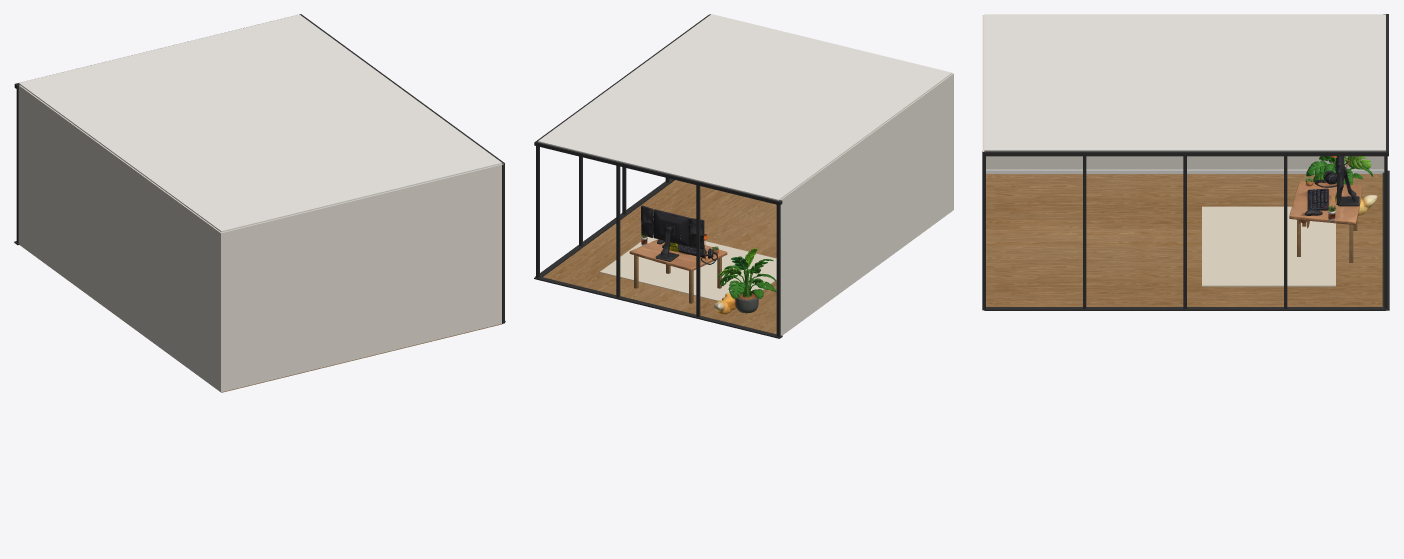
Rendered from room.glb.
The picture shows the model from 3 angles, left to right: view 1: azimuth 30°, elevation 25°; view 2: azimuth 150°, elevation 25°; view 3: azimuth 270°, elevation 25°; orthographic projection. The views are drawn at different scales.
Parts seen in each view (by area): view 1: ceiling, wallF, wallL; view 2: ceiling, wallL, floor, rug, triple_monitor_workstation_3d_model_triple_monitor_workstati, plotted_plant_dog_plotted_plant_dog, header, threshold, thresholdR, mullion0.8, mullion-0.8, mullion-2.4 (+1 smaller); view 3: ceiling, floor, rug, wallL, triple_monitor_workstation_3d_model_triple_monitor_workstati, headerR, baseL, thresholdR, plotted_plant_dog_plotted_plant_dog, threshold, mullionR4.8, mullion2.4 (+3 smaller).
Part boxes in pixels (left/top/right/bottom): ceiling: left=19, top=14, right=502, bottom=232; wallF: left=220, top=163, right=503, bottom=392; wallL: left=18, top=85, right=220, bottom=391; ceiling: left=538, top=14, right=952, bottom=200; wallL: left=780, top=74, right=953, bottom=335; floor: left=543, top=180, right=776, bottom=334; rug: left=600, top=235, right=776, bottom=301; triple_monitor_workstation_3d_model_triple_monitor_workstati: left=629, top=205, right=727, bottom=271; plotted_plant_dog_plotted_plant_dog: left=713, top=248, right=776, bottom=314; header: left=534, top=141, right=782, bottom=205; threshold: left=534, top=277, right=782, bottom=338; thresholdR: left=535, top=178, right=674, bottom=277; mullion0.8: left=616, top=165, right=620, bottom=297; mullion-0.8: left=696, top=185, right=700, bottom=317; mullion-2.4: left=776, top=205, right=780, bottom=336; ceiling: left=984, top=14, right=1385, bottom=151; floor: left=986, top=174, right=1382, bottom=306; rug: left=1202, top=206, right=1335, bottom=286; wallL: left=986, top=156, right=1384, bottom=169; triple_monitor_workstation_3d_model_triple_monitor_workstati: left=1289, top=156, right=1362, bottom=228; headerR: left=984, top=151, right=1383, bottom=156; baseL: left=986, top=169, right=1384, bottom=173; thresholdR: left=984, top=307, right=1385, bottom=310; plotted_plant_dog_plotted_plant_dog: left=1306, top=156, right=1377, bottom=215; threshold: left=1382, top=170, right=1389, bottom=310; mullionR4.8: left=982, top=151, right=985, bottom=310; mullion2.4: left=1384, top=156, right=1387, bottom=308.
Size of the model in its own units: 4.91 by 7.62 by 6.07.
Materials: 12 (7 with a texture image).
